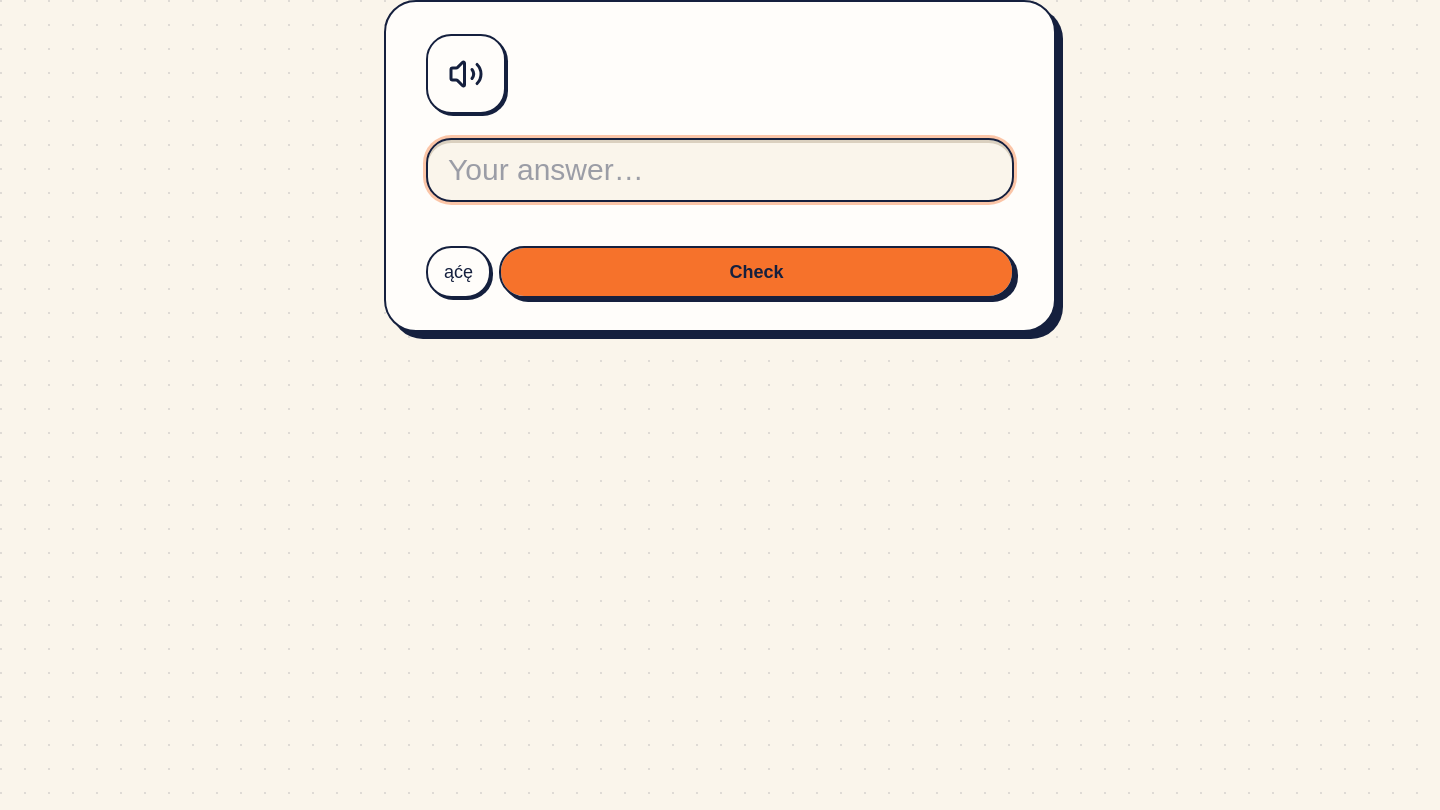
Test: dictation reads a hint after a homophone, and shows it only after checking
This screenshot has width=1440, height=810.
Expected: the text "zbiornik słonej wody" is not shown
Type "morze" into the field labelled "answer". click: (720,170)
box: 426,138 -> 1014,202
Then press Enter
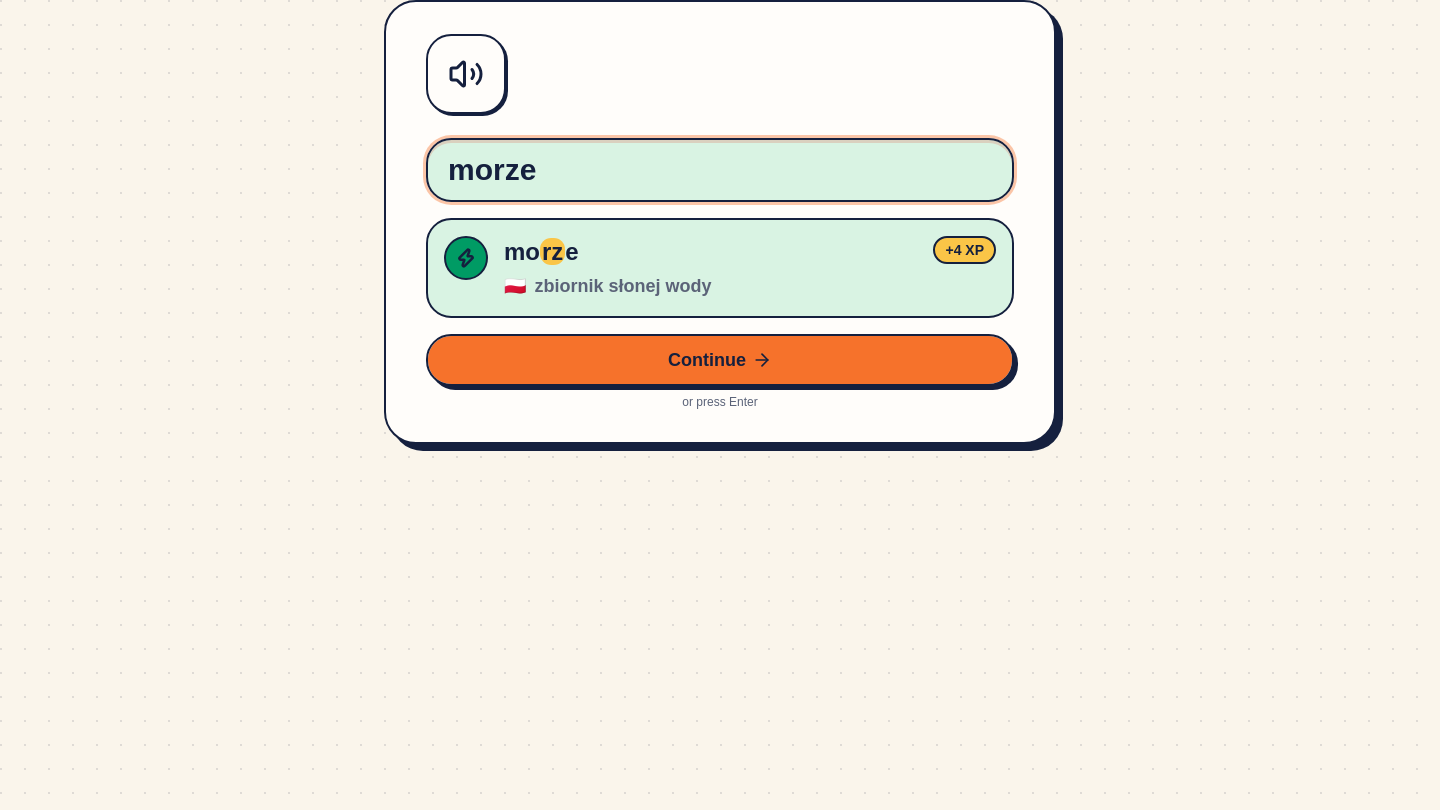
Result: the message shows "zbiornik słonej wody" at 534,276 -> 712,296
